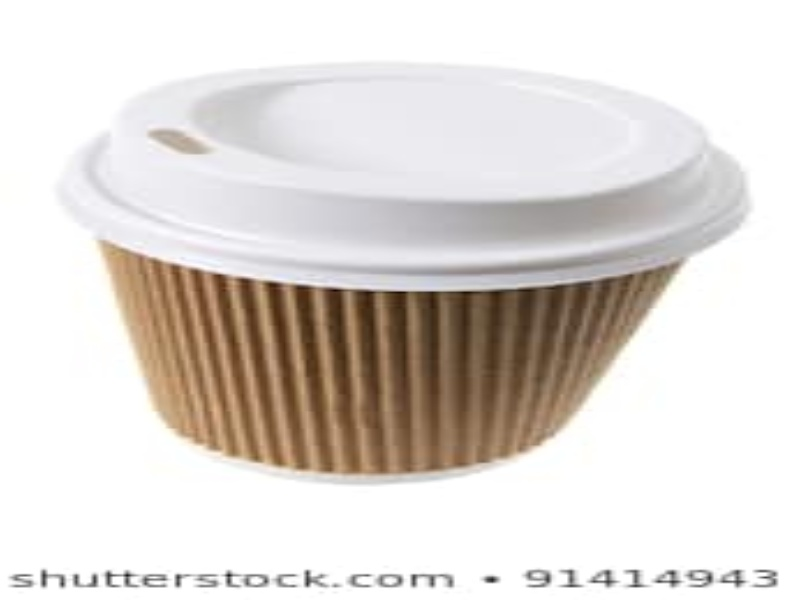coffee-lid: (52, 61, 758, 294)
